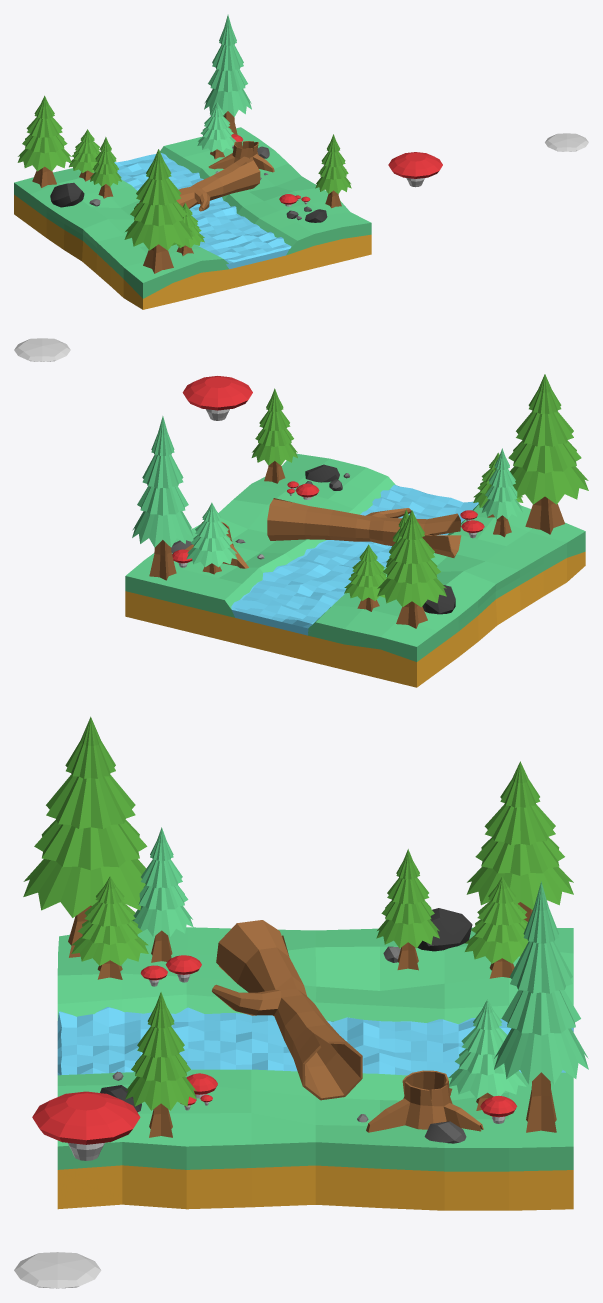
3 renders of one model, top to bottom at view 1: azimuth 30°, elevation 25°; view 2: azimuth 150°, elevation 25°; view 3: azimuth 270°, elevation 25°, orthographic. The views are drawn at different scales.
Visible parts, largest first — view 1: Forest_Ground, Forest_water, pinetree.001, pinetree.007, pinetree.005, Forest_wood, pinetree, pinetree.008, 柱体, pinetree.004, pinetree.006, Forest_stump (+3 smaller); view 2: Forest_Ground, Forest_water, pinetree.001, Forest_wood, pinetree.007, pinetree.005, pinetree, pinetree.008, pinetree.003, 柱体, pinetree.006, 斑点 (+3 smaller); view 3: Forest_Ground, Forest_water, pinetree.001, Forest_wood, pinetree.007, pinetree.005, pinetree, pinetree.002, pinetree.003, 柱体, pinetree.008, pinetree.004 (+5 smaller).
Boxes of the visible parts, box(x1,y1,x2,y2) form: Forest_Ground: box(14, 127, 371, 309); Forest_water: box(114, 153, 291, 269); pinetree.001: box(124, 149, 192, 273); pinetree.007: box(204, 14, 251, 134); pinetree.005: box(17, 95, 71, 187); Forest_wood: box(136, 156, 260, 211); pinetree: box(315, 134, 351, 208); pinetree.008: box(197, 102, 236, 159); 柱体: box(388, 152, 442, 176); pinetree.004: box(90, 137, 121, 198); pinetree.006: box(69, 129, 100, 181); Forest_stump: box(208, 141, 274, 172); Forest_Ground: box(125, 453, 585, 687); Forest_water: box(231, 485, 478, 635); pinetree.001: box(508, 374, 588, 534); Forest_wood: box(267, 498, 461, 557); pinetree.007: box(132, 416, 193, 580); pinetree.005: box(377, 510, 446, 628); pinetree: box(251, 388, 297, 483); pinetree.008: box(186, 502, 237, 574); pinetree.003: box(482, 448, 522, 537); 柱体: box(182, 376, 252, 407); pinetree.006: box(344, 544, 386, 611); 斑点: box(14, 338, 70, 361); Forest_Ground: box(57, 927, 573, 1210); Forest_water: box(57, 1007, 573, 1077); pinetree.001: box(23, 716, 147, 957); Forest_wood: box(212, 920, 362, 1100); pinetree.007: box(494, 881, 588, 1132); pinetree.005: box(466, 761, 573, 921); pinetree: box(125, 992, 196, 1137); pinetree.002: box(71, 876, 148, 979); pinetree.003: box(132, 827, 193, 962); 柱体: box(32, 1091, 140, 1140); pinetree.008: box(448, 999, 526, 1110); pinetree.004: box(376, 849, 439, 970).
Size of the model in its own units: 7928 by 2636 by 4460.
